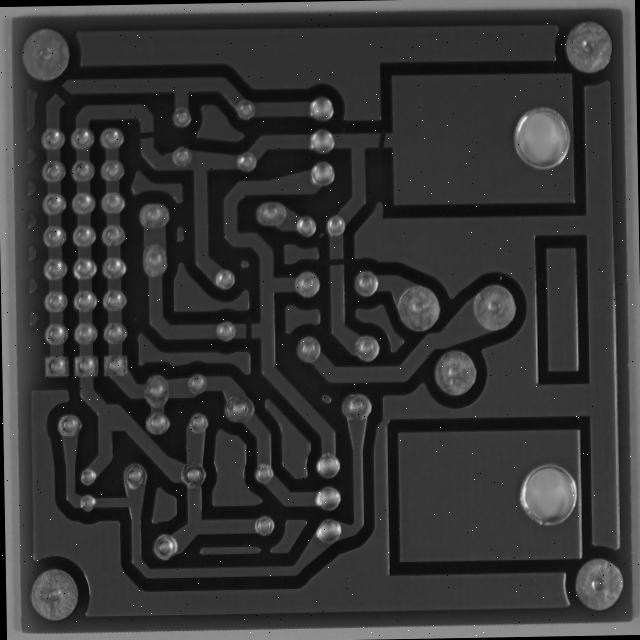open_circuit: (98, 82, 131, 109), (15, 39, 42, 70), (354, 87, 377, 116), (301, 222, 332, 243), (216, 293, 233, 322)
